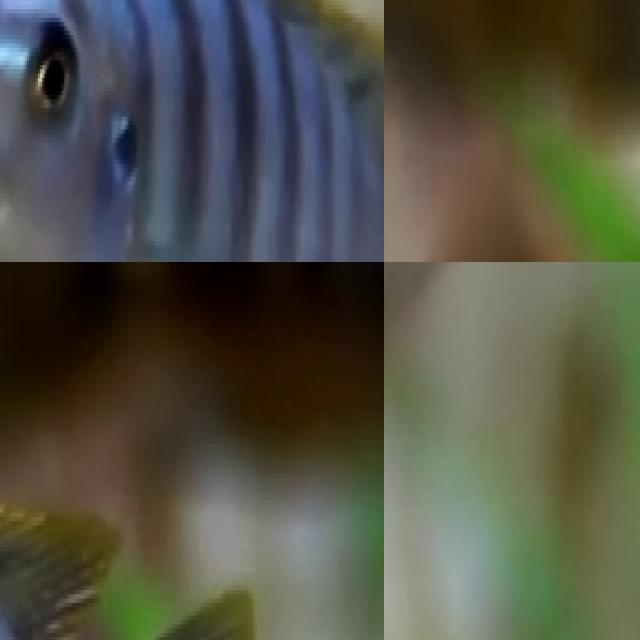fish: (0, 0, 384, 262), (0, 262, 384, 500), (384, 0, 640, 164)
